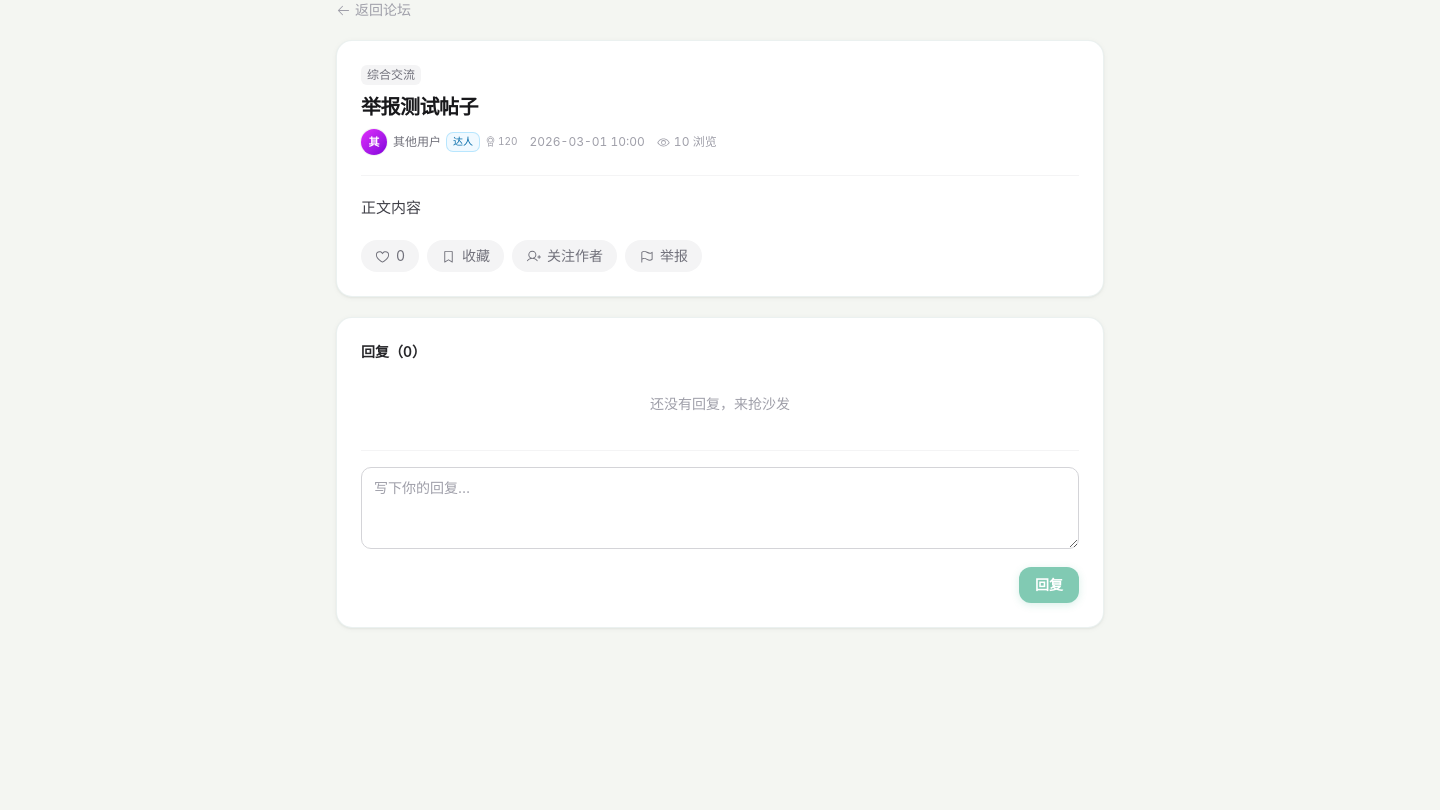
Scenario: ReportButton (从 ForumPostPage 拆出) › 点击举报按钮打开弹窗
This screenshot has width=1440, height=810.
Click the button "举报" at (664, 256), box [625, 240, 702, 272]
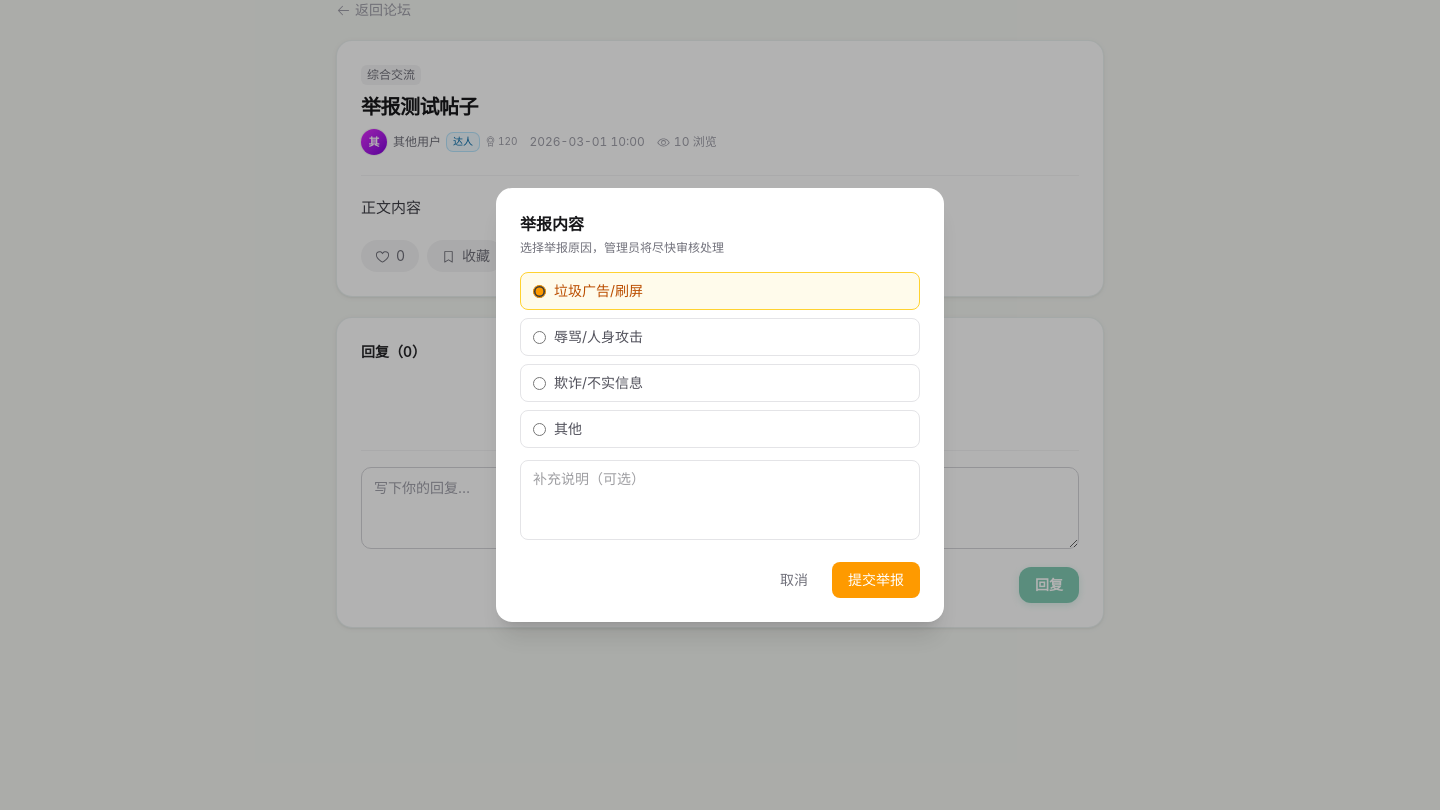
Result: the heading "举报内容" is shown at [520, 214, 584, 234]
Result: the text "垃圾广告/刷屏" is shown at [520, 272, 920, 310]
Result: the text "辱骂/人身攻击" is shown at [520, 318, 920, 356]
